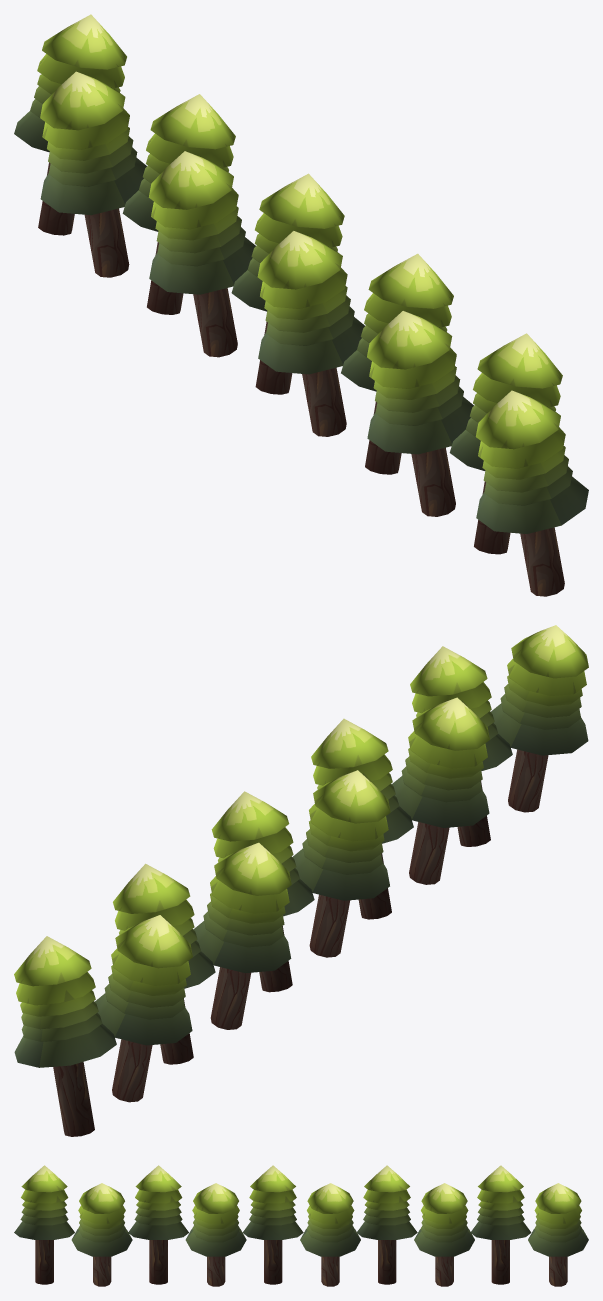
File: pohon.fbx
The picture shows the model from 3 angles, top to bottom: view 1: azimuth 30°, elevation 25°; view 2: azimuth 150°, elevation 25°; view 3: azimuth 270°, elevation 25°; orthographic projection. The views are drawn at different scales.
Visible parts, largest first — view 1: pohon lama.009, pohon lama.004, pohon lama.002, pohon lama.006, pohon lama.008, pohon lama.005, pohon lama.001, pohon lama.003, pohon lama.010, pohon lama.007; view 2: pohon lama.010, pohon lama.006, pohon lama.004, pohon lama.002, pohon lama.009, pohon lama.008, pohon lama.003, pohon lama.001, pohon lama.005, pohon lama.007; view 3: pohon lama.009, pohon lama.002, pohon lama.006, pohon lama.004, pohon lama.008, pohon lama.001, pohon lama.003, pohon lama.005, pohon lama.007, pohon lama.010.
Part boxes in pixels (x1,y1,x2,y2): pohon lama.009: (475,390,588,596); pohon lama.004: (257,231,364,436); pohon lama.002: (367,311,473,516); pohon lama.006: (148,151,255,357); pohon lama.008: (40,71,146,277); pohon lama.005: (231,173,344,394); pohon lama.001: (449,333,562,554); pohon lama.003: (341,253,453,474); pohon lama.010: (14,14,126,235); pohon lama.007: (122,94,235,314); pohon lama.010: (14,936,116,1136); pohon lama.006: (193,842,291,1029); pohon lama.004: (292,770,390,957); pohon lama.002: (392,697,489,884); pohon lama.009: (491,625,588,812); pohon lama.008: (95,915,192,1102); pohon lama.003: (311,718,413,919); pohon lama.001: (410,646,512,846); pohon lama.005: (211,791,314,992); pohon lama.007: (113,863,215,1064); pohon lama.009: (14,1165,74,1284); pohon lama.002: (128,1165,188,1284); pohon lama.006: (357,1165,417,1284); pohon lama.004: (242,1165,303,1284); pohon lama.008: (471,1165,531,1284); pohon lama.001: (71,1183,132,1286); pohon lama.003: (185,1183,246,1286); pohon lama.005: (300,1183,360,1286); pohon lama.007: (414,1183,474,1286); pohon lama.010: (528,1183,588,1286).
Size of the model in its own units: 348 by 540 by 2573.
